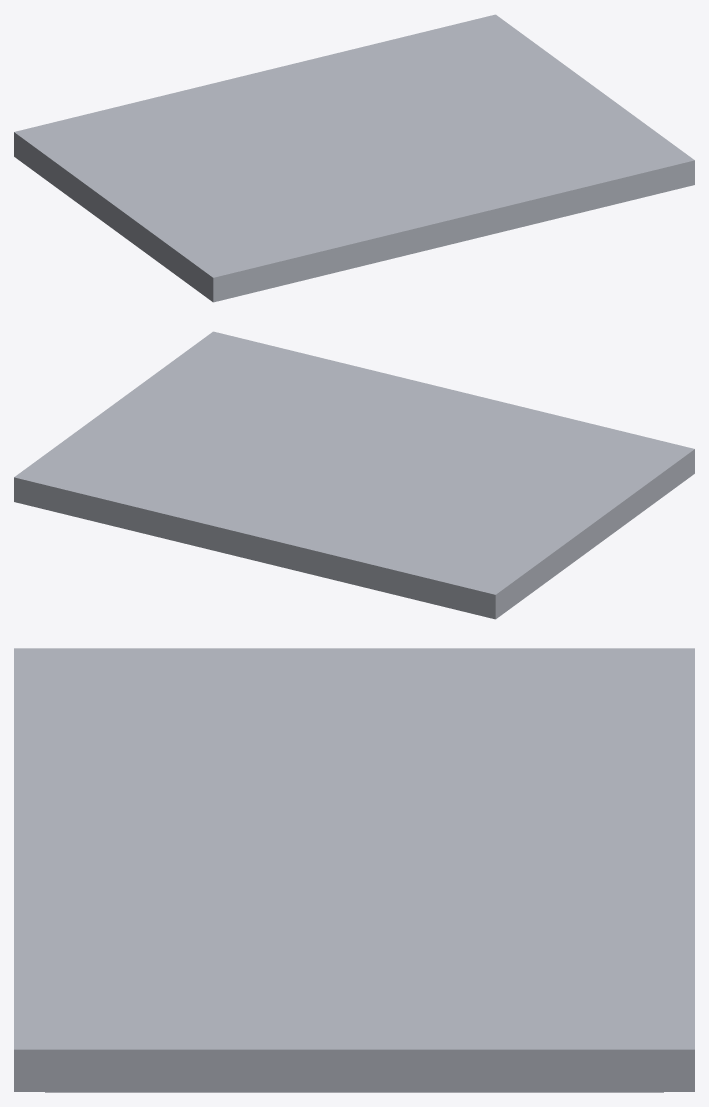
File: VentilationGrid.fbx
3 renders of one model, top to bottom at view 1: azimuth 30°, elevation 25°; view 2: azimuth 150°, elevation 25°; view 3: azimuth 270°, elevation 25°, orthographic. The views are drawn at different scales.
Parts seen in each view (by area): view 1: Box001; view 2: Box001; view 3: Box001.
Part boxes in pixels (x1,y1,x2,y2): Box001: (14,14,694,302); Box001: (14,331,694,619); Box001: (14,648,694,1092).
Bounding box in the file's own units: 61.4 × 4 × 44.
Materials: 1 (1 with a texture image).
